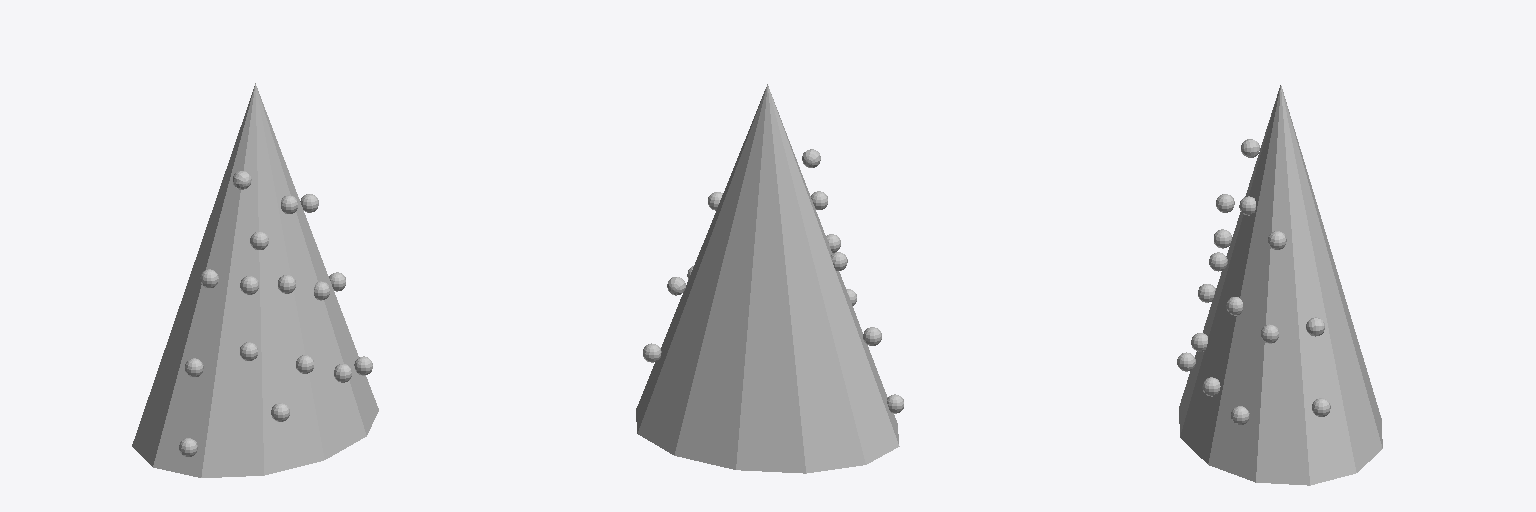
File: xmastree3.obj
The picture shows the model from 3 angles: view 1: azimuth 30°, elevation 25°; view 2: azimuth 150°, elevation 25°; view 3: azimuth 270°, elevation 25°; orthographic projection.
Parts seen in each view (by area): view 1: mesh[number redacted]; view 2: mesh[number redacted]; view 3: mesh[number redacted].
Boxes of the visible parts, x1,y1,x2,y2 form: mesh[number redacted]: [132, 83, 378, 477]; mesh[number redacted]: [636, 84, 899, 473]; mesh[number redacted]: [1179, 85, 1382, 485].
Size of the model in its own units: 6.3 by 8.85 by 4.79.